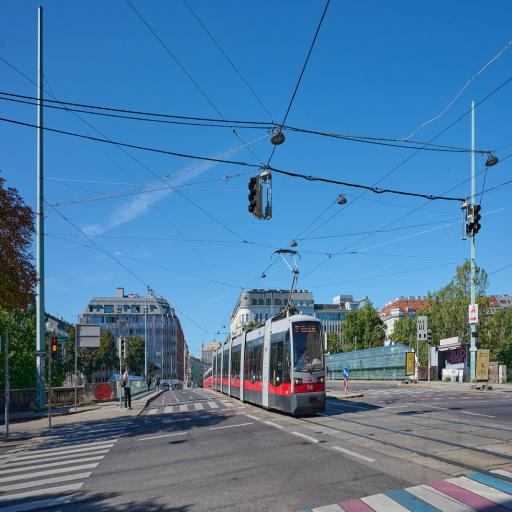ULF: (212, 312, 328, 416)
